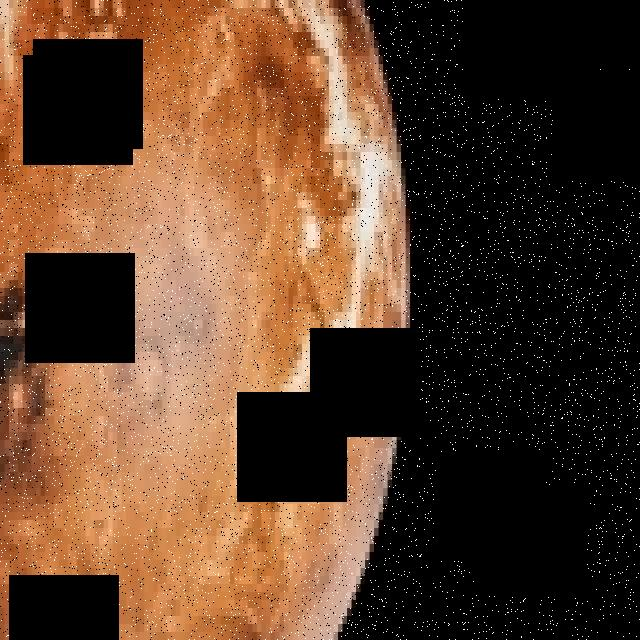Venus: (0, 0, 410, 640)
